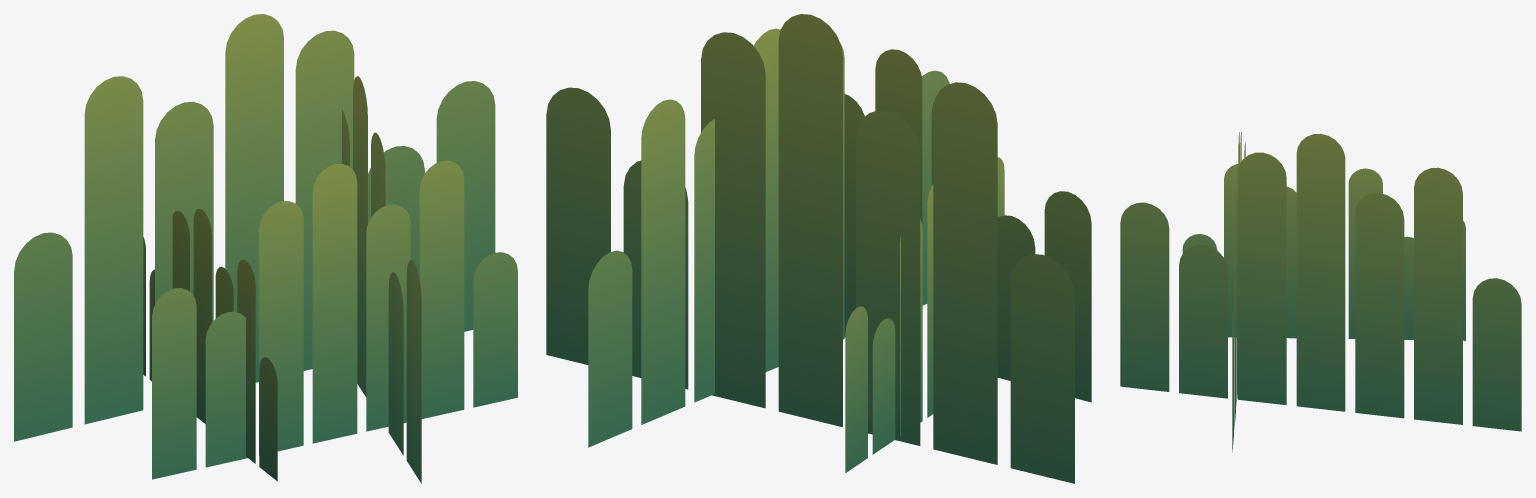
File: grass.glb
3 views of the same model, side by side, from view 1: azimuth 30°, elevation 25°; view 2: azimuth 150°, elevation 25°; view 3: azimuth 270°, elevation 25° (orthographic). The views are drawn at different scales.
Visible parts, largest first — view 1: Plane.001, Plane.004, Plane.003, Plane.002; view 2: Plane.001, Plane.003, Plane.004, Plane.002; view 3: Plane.003, Plane.002, Plane.004.
Boxes of the visible parts, x1,y1,x2,y2 form: Plane.001: (14, 14, 495, 441); Plane.004: (152, 160, 517, 479); Plane.003: (342, 76, 421, 483); Plane.002: (143, 208, 277, 481); Plane.001: (546, 14, 1074, 483); Plane.003: (588, 28, 949, 447); Plane.004: (844, 49, 1091, 402); Plane.002: (845, 157, 1004, 472); Plane.003: (1120, 133, 1521, 431); Plane.002: (1182, 164, 1465, 340); Plane.004: (1232, 132, 1245, 452).
Size of the model in its own units: 3.26 by 2.38 by 2.65.
1 material, 1 textured.
